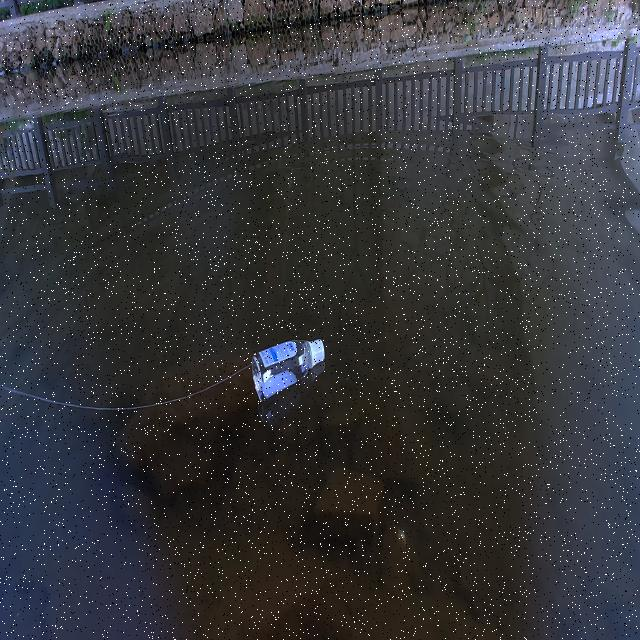Bottle: (252, 336, 326, 405)
